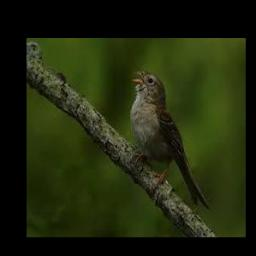Sparrow: (129, 68, 208, 209)
